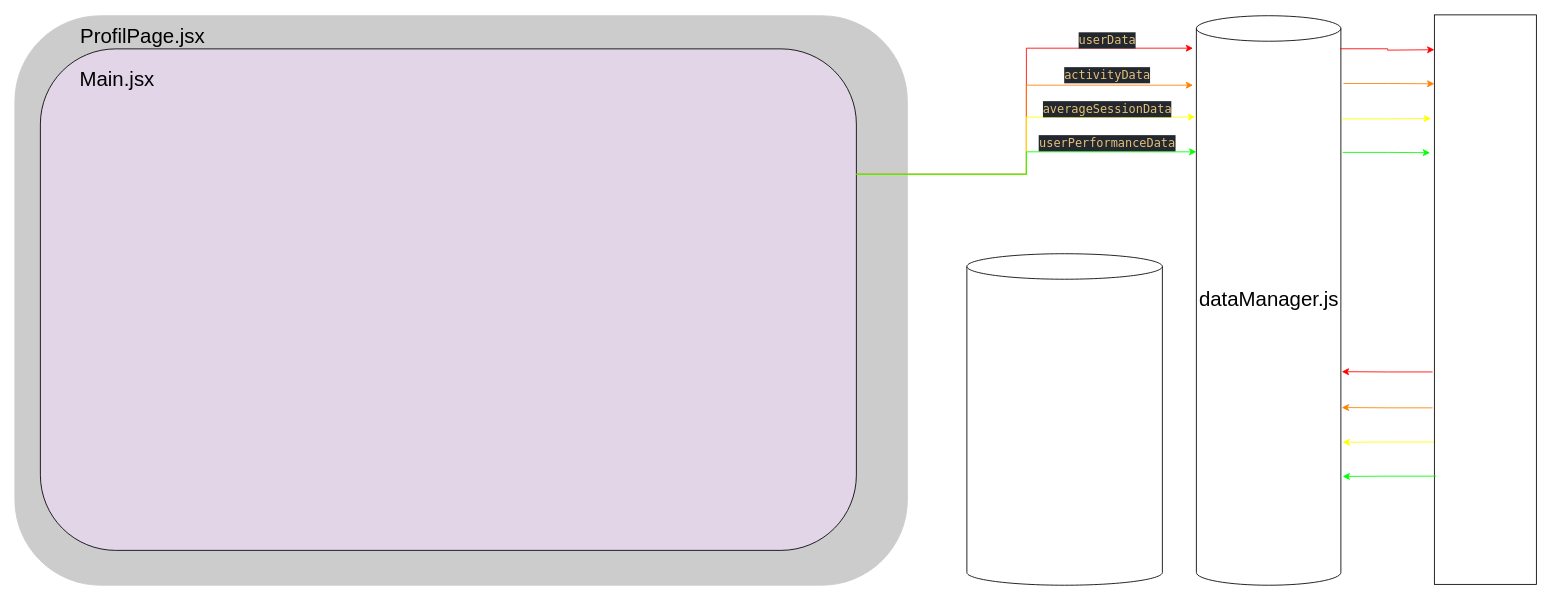
The diagram is 1551 pixels wide and 600 high, and some of its shapes have lost their labels. The centre of each missing label's shape, as x and y in pixels:
"Back-end" belongs at point (1485, 299).
"dataFormatter.js" belongs at point (1064, 419).
